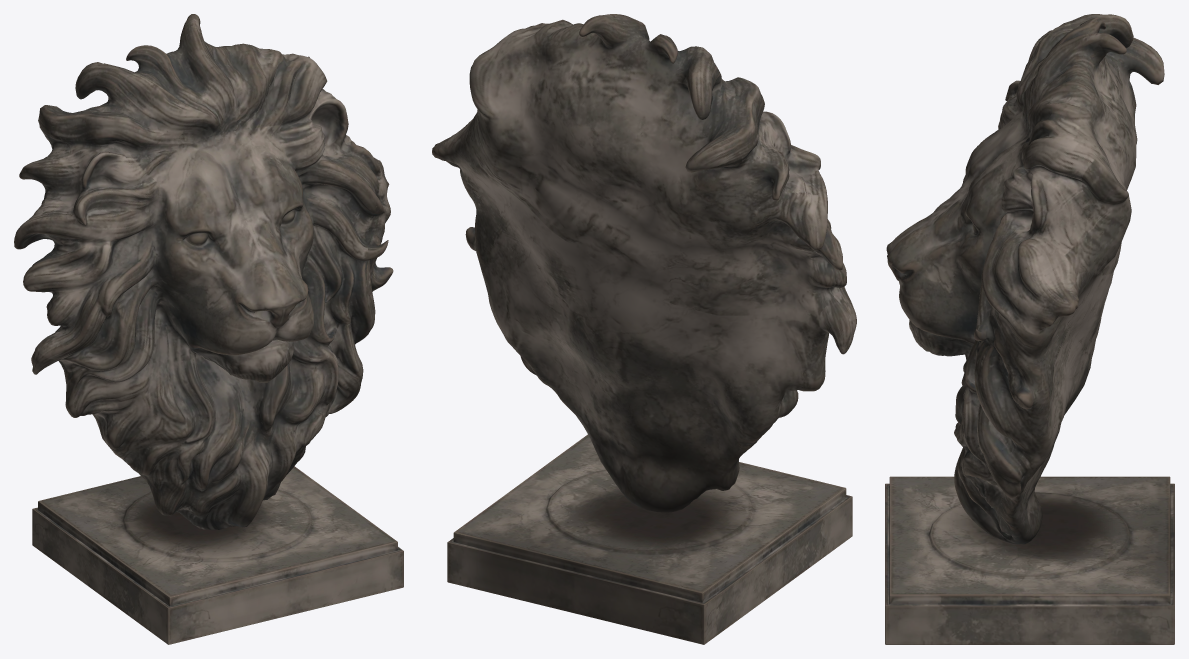
Rendered from nature-lion-statue.glb.
The picture shows the model from 3 angles, left to right: view 1: azimuth 30°, elevation 25°; view 2: azimuth 150°, elevation 25°; view 3: azimuth 270°, elevation 25°; orthographic projection. The views are drawn at different scales.
Parts seen in each view (by area): view 1: lion_head; view 2: lion_head; view 3: lion_head.
Part boxes in pixels (left/top/right/bottom): lion_head: left=14, top=14, right=403, bottom=644; lion_head: left=432, top=14, right=856, bottom=644; lion_head: left=885, top=14, right=1174, bottom=644.
Bounding box in the file's own units: 0.3208 × 0.4364 × 0.2066.
Materials: 1 (1 with a texture image).
